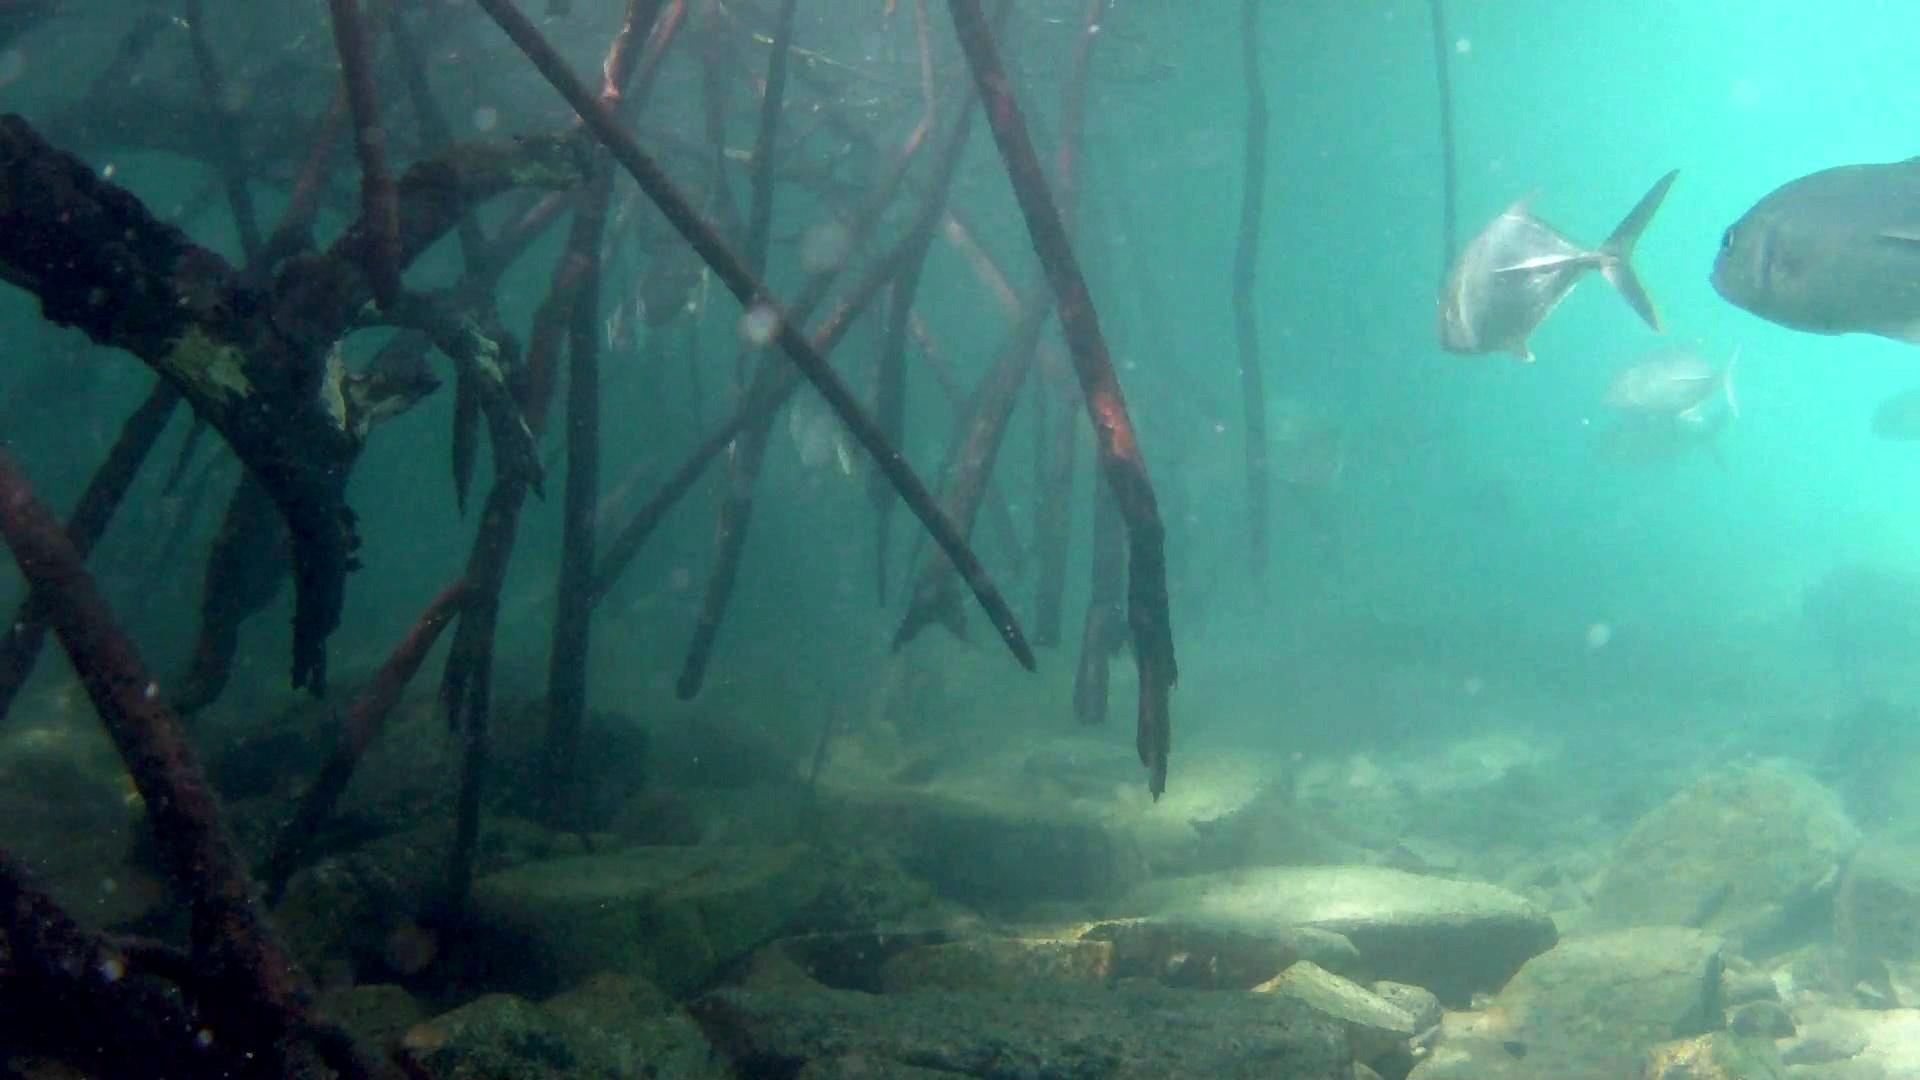caranx: (1432, 164, 1689, 369), (1702, 138, 1920, 368)
